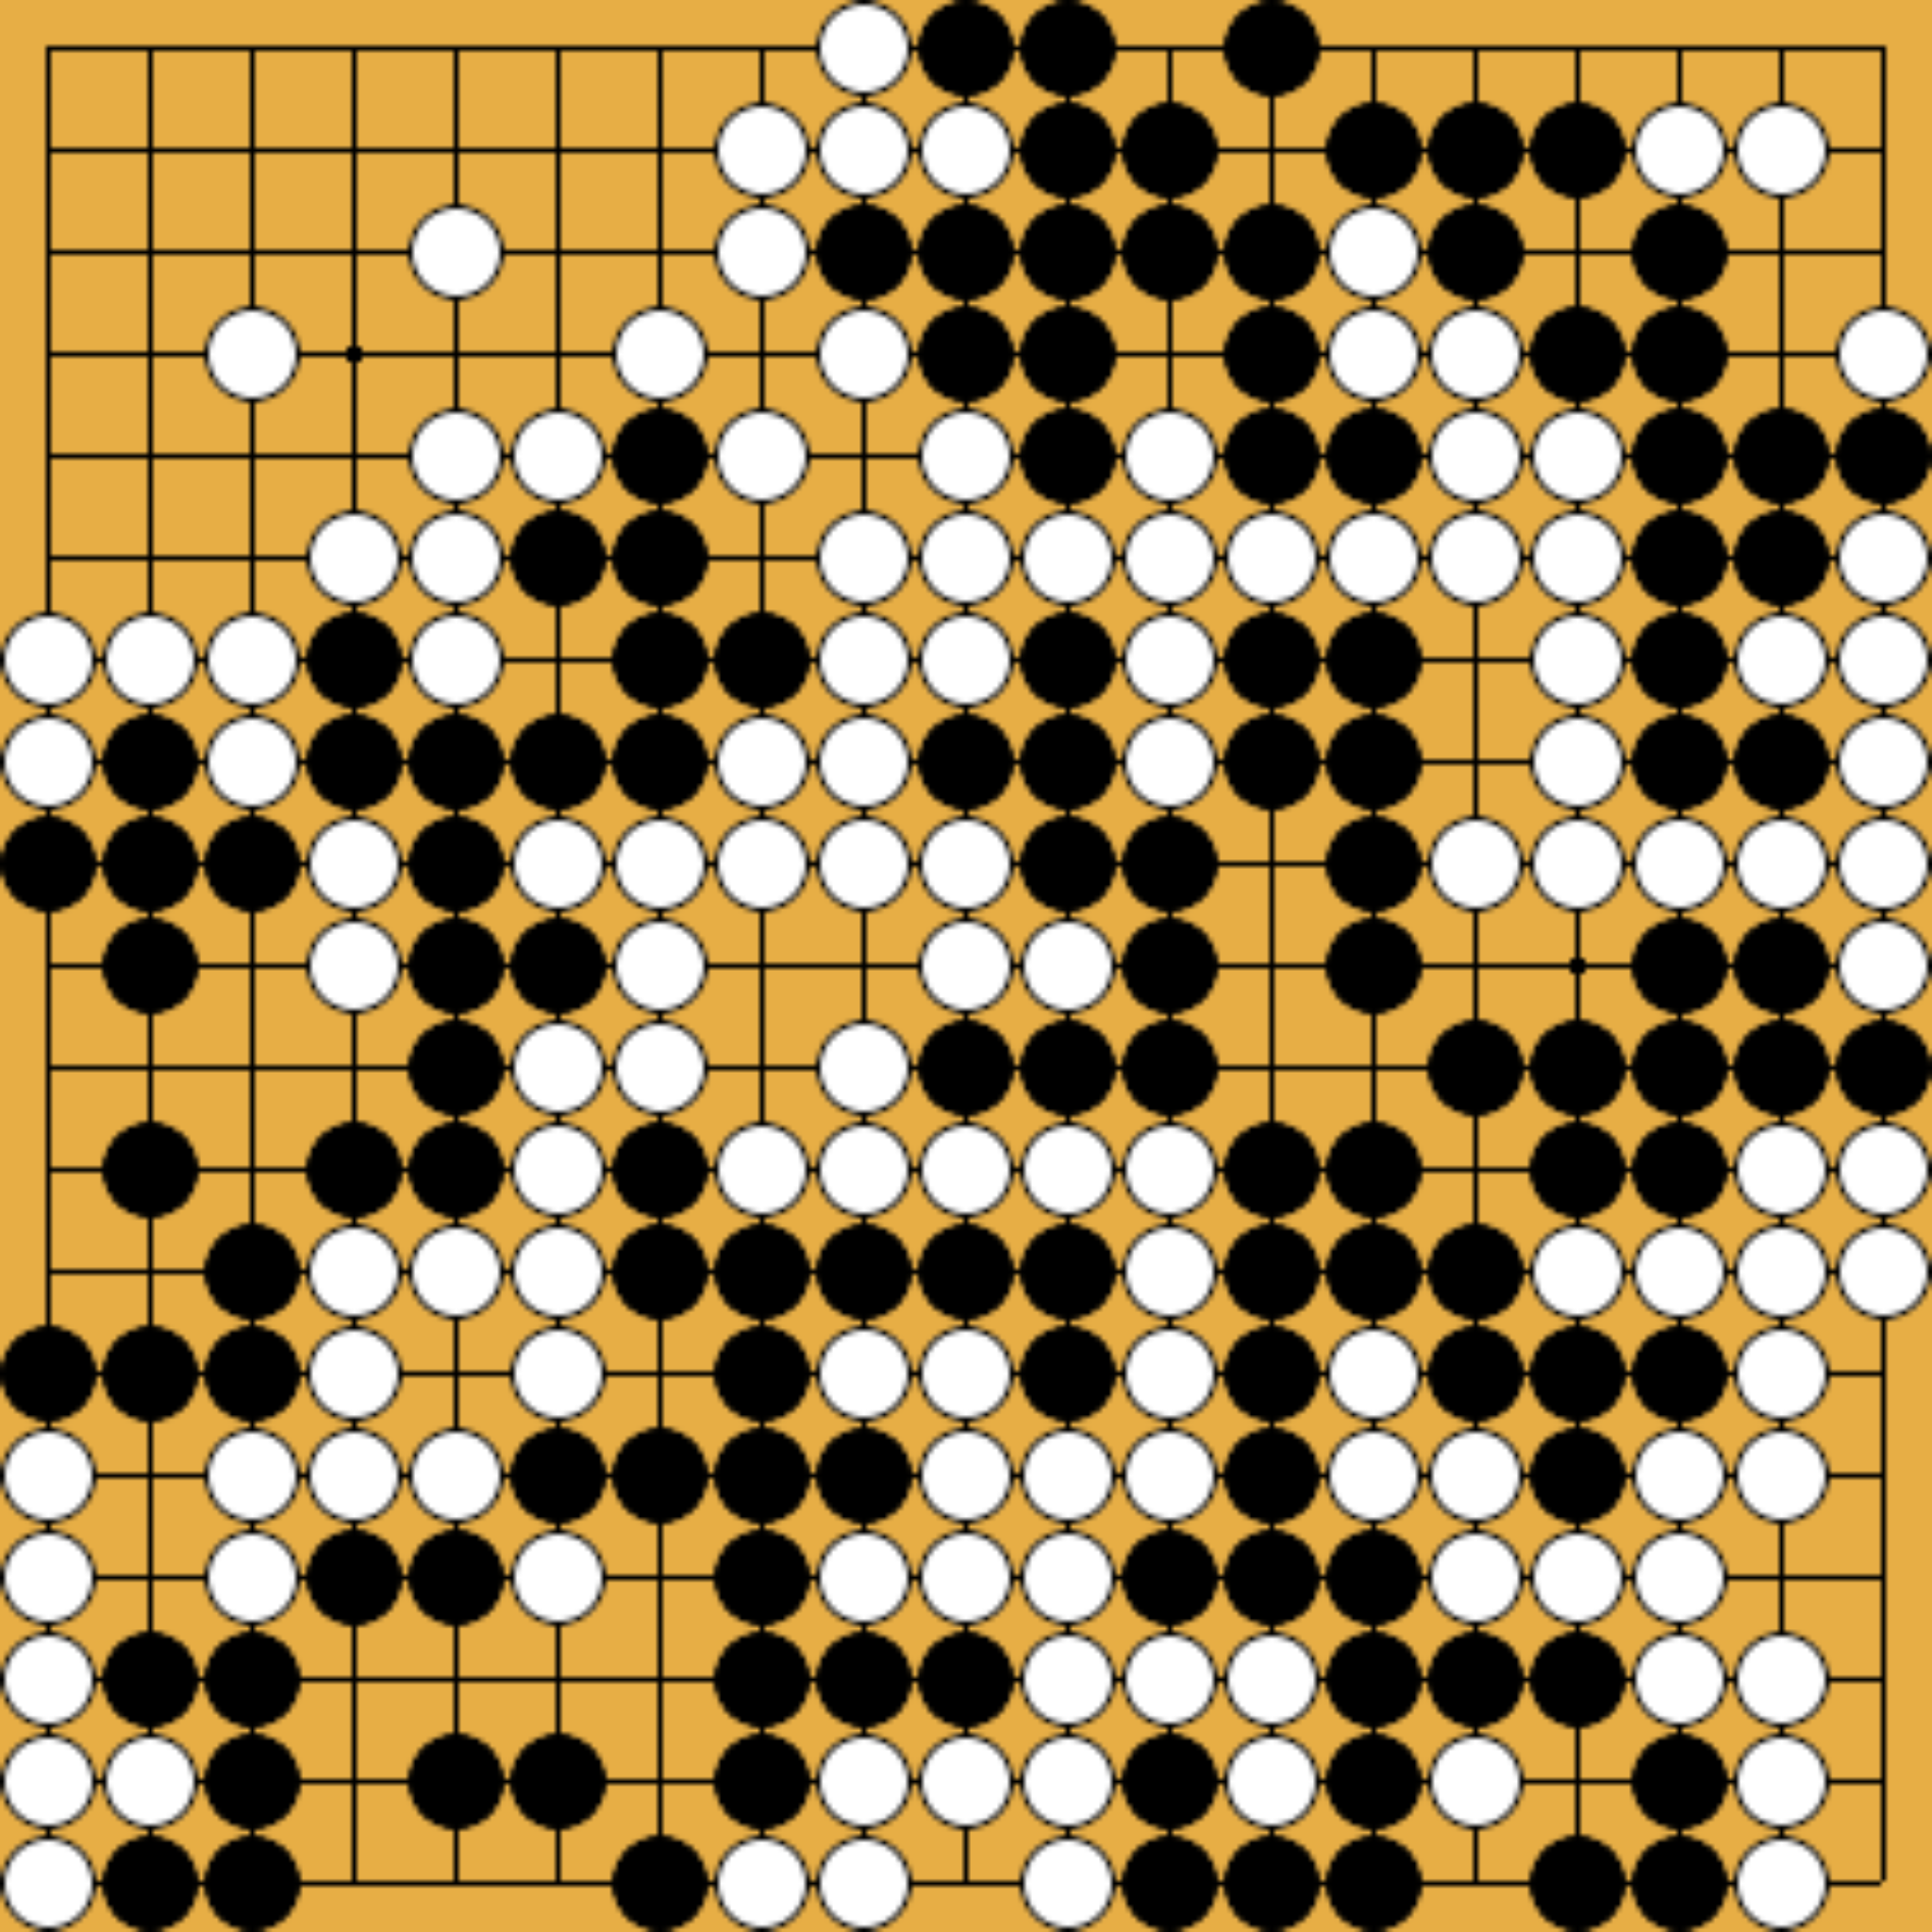black: (405, 1017, 501, 1113), (405, 1527, 501, 1622), (405, 1730, 501, 1826), (508, 508, 603, 603), (508, 1730, 603, 1826), (1017, 405, 1113, 501), (1017, 1017, 1113, 1113), (1017, 1221, 1113, 1316), (1221, 405, 1316, 501), (1221, 1221, 1316, 1316), (1221, 1527, 1316, 1622), (1527, 1017, 1622, 1113), (1730, 405, 1826, 501), (1730, 508, 1826, 603), (1730, 1017, 1826, 1113), (202, 1221, 295, 1316), (202, 1730, 295, 1826), (304, 1527, 398, 1622), (405, 713, 501, 807), (405, 814, 501, 908), (405, 916, 501, 1010), (405, 1120, 501, 1214), (508, 713, 603, 807), (508, 916, 603, 1010), (508, 1426, 603, 1520), (610, 405, 704, 501), (610, 508, 704, 603), (610, 1221, 704, 1316), (713, 1221, 807, 1316), (713, 1527, 807, 1622), (713, 1730, 807, 1826), (814, 1221, 908, 1316), (916, 1017, 1010, 1113), (916, 1221, 1010, 1316), (1017, 101, 1113, 195), (1017, 202, 1113, 295), (1017, 304, 1113, 398), (1017, 610, 1113, 704), (1017, 713, 1113, 807), (1017, 814, 1113, 908), (1017, 1323, 1113, 1417), (1069, 150, 1162, 246), (1120, 1017, 1214, 1113), (1120, 1527, 1214, 1622), (1120, 1730, 1214, 1826), (1221, 202, 1316, 295), (1221, 304, 1316, 398), (1221, 610, 1316, 704), (1221, 713, 1316, 807), (1221, 1120, 1316, 1214), (1221, 1323, 1316, 1417), (1221, 1426, 1316, 1520), (1221, 1833, 1316, 1927), (1323, 405, 1417, 501), (1323, 1221, 1417, 1316), (1323, 1527, 1417, 1622), (1323, 1730, 1417, 1826), (1426, 1017, 1520, 1113), (1426, 1221, 1520, 1316), (1527, 101, 1622, 195), (1527, 304, 1622, 398), (1527, 1120, 1622, 1214), (1527, 1323, 1622, 1417), (1527, 1426, 1622, 1520), (1527, 1629, 1622, 1723), (1527, 1833, 1622, 1927), (1629, 405, 1723, 501), (1629, 1730, 1723, 1826), (1730, 713, 1826, 807), (1730, 916, 1826, 1010), (1833, 405, 1927, 501), (1833, 1017, 1927, 1113), (101, 713, 195, 807), (101, 814, 195, 908), (101, 916, 195, 1010), (101, 1120, 195, 1214), (101, 1323, 195, 1417), (101, 1629, 195, 1723), (101, 1833, 195, 1927), (202, 814, 295, 908), (202, 1323, 295, 1417), (202, 1629, 295, 1723), (202, 1833, 295, 1927), (304, 610, 398, 704), (304, 713, 398, 807), (304, 1120, 398, 1214), (610, 610, 704, 704), (610, 713, 704, 807), (610, 1120, 704, 1214), (610, 1426, 704, 1520), (610, 1833, 704, 1927), (713, 610, 807, 704), (713, 1323, 807, 1417), (713, 1426, 807, 1520), (713, 1629, 807, 1723), (814, 202, 908, 295), (814, 1426, 908, 1520), (814, 1629, 908, 1723), (916, 202, 1010, 295), (916, 304, 1010, 398), (916, 713, 1010, 807), (916, 1629, 1010, 1723), (1120, 101, 1214, 195), (1120, 814, 1214, 908), (1120, 916, 1214, 1010), (1120, 1833, 1214, 1927), (1323, 101, 1417, 195), (1323, 610, 1417, 704), (1323, 713, 1417, 807), (1323, 814, 1417, 908), (1323, 916, 1417, 1010), (1323, 1120, 1417, 1214), (1323, 1629, 1417, 1723), (1323, 1833, 1417, 1927), (1426, 101, 1520, 195), (1426, 202, 1520, 295), (1426, 1323, 1520, 1417), (1426, 1629, 1520, 1723), (1629, 202, 1723, 295), (1629, 304, 1723, 398), (1681, 456, 1775, 550), (1629, 610, 1723, 704), (1629, 713, 1723, 807), (1629, 916, 1723, 1010), (1681, 968, 1775, 1062), (1629, 1120, 1723, 1214), (1629, 1323, 1723, 1417), (1629, 1833, 1723, 1927), (1017, 2, 1113, 88), (1221, 2, 1316, 88), (2, 814, 88, 908), (2, 1323, 88, 1417), (916, 2, 1010, 88)
white: (104, 616, 189, 701), (104, 1736, 189, 1821), (207, 308, 292, 393), (207, 616, 292, 701), (207, 717, 292, 801), (207, 1430, 292, 1514), (207, 1532, 292, 1617), (308, 513, 393, 598), (308, 819, 393, 904), (308, 920, 393, 1005), (308, 1226, 393, 1311), (308, 1329, 393, 1414), (308, 1430, 393, 1514), (410, 207, 495, 292), (410, 410, 495, 495), (410, 513, 495, 598), (410, 616, 495, 701), (410, 1226, 495, 1311), (410, 1430, 495, 1514), (513, 410, 598, 495), (513, 819, 598, 904), (513, 1023, 598, 1108), (513, 1125, 598, 1210), (513, 1226, 598, 1311), (513, 1329, 598, 1414), (513, 1532, 598, 1617), (616, 308, 701, 393), (616, 819, 701, 904), (616, 920, 701, 1005), (616, 1023, 701, 1108), (717, 90, 801, 175), (717, 207, 801, 292), (717, 410, 801, 495), (717, 717, 801, 801), (717, 819, 801, 904), (717, 1125, 801, 1210), (717, 1838, 801, 1923), (819, 104, 904, 189), (819, 308, 904, 393), (819, 513, 904, 598), (819, 616, 904, 701), (819, 717, 904, 801), (819, 819, 904, 904), (819, 1023, 904, 1108), (819, 1125, 904, 1210), (819, 1329, 904, 1414), (819, 1532, 904, 1617), (819, 1736, 904, 1821), (819, 1838, 904, 1923), (920, 104, 1005, 189), (920, 410, 1005, 495), (920, 513, 1005, 598), (920, 616, 1005, 701), (920, 819, 1005, 904), (920, 920, 1005, 1005), (920, 1125, 1005, 1210), (920, 1329, 1005, 1414), (920, 1430, 1005, 1514), (920, 1532, 1005, 1617), (920, 1736, 1005, 1821), (1023, 513, 1108, 598), (1023, 920, 1108, 1005), (1023, 1125, 1108, 1210), (1023, 1430, 1108, 1514), (1023, 1532, 1108, 1617), (1023, 1736, 1108, 1821), (1023, 1838, 1108, 1923), (1125, 410, 1210, 495), (1125, 513, 1210, 598), (1125, 616, 1210, 701), (1125, 717, 1210, 801), (1125, 1125, 1210, 1210), (1125, 1226, 1210, 1311), (1125, 1329, 1210, 1414), (1125, 1430, 1210, 1514), (1226, 513, 1311, 598), (1226, 1736, 1311, 1821), (1329, 207, 1414, 292), (1329, 308, 1414, 393), (1329, 513, 1414, 598), (1329, 1329, 1414, 1414), (1329, 1430, 1414, 1514), (1430, 308, 1514, 393), (1430, 410, 1514, 495), (1430, 513, 1514, 598), (1430, 819, 1514, 904), (1430, 1430, 1514, 1514), (1430, 1532, 1514, 1617), (1430, 1736, 1514, 1821), (1532, 410, 1617, 495), (1532, 513, 1617, 598), (1532, 616, 1617, 701), (1532, 717, 1617, 801), (1532, 819, 1617, 904), (1532, 1226, 1617, 1311), (1532, 1532, 1617, 1617), (1736, 104, 1821, 189), (1736, 616, 1821, 701), (1736, 819, 1821, 904), (1736, 1125, 1821, 1210), (1736, 1226, 1821, 1311), (1736, 1329, 1821, 1414), (1736, 1430, 1821, 1514), (1736, 1736, 1821, 1821), (1736, 1838, 1821, 1923), (1838, 308, 1923, 393), (1838, 513, 1923, 598), (1838, 616, 1923, 701), (1838, 717, 1923, 801), (1838, 819, 1923, 904), (1838, 920, 1923, 1005), (1838, 1125, 1923, 1210), (1838, 1226, 1923, 1311), (1023, 1635, 1108, 1718), (1125, 1635, 1210, 1718), (1226, 1635, 1311, 1718), (1635, 104, 1718, 189), (1635, 819, 1718, 904), (1635, 1226, 1718, 1311), (1635, 1430, 1718, 1514), (1635, 1532, 1718, 1617), (1736, 1635, 1821, 1718), (1635, 1635, 1718, 1718), (2, 616, 83, 701), (2, 717, 83, 801), (2, 1430, 83, 1514), (2, 1532, 83, 1617), (2, 1736, 83, 1821), (819, 2, 904, 83), (2, 1635, 83, 1718), (2, 1844, 78, 1928)
